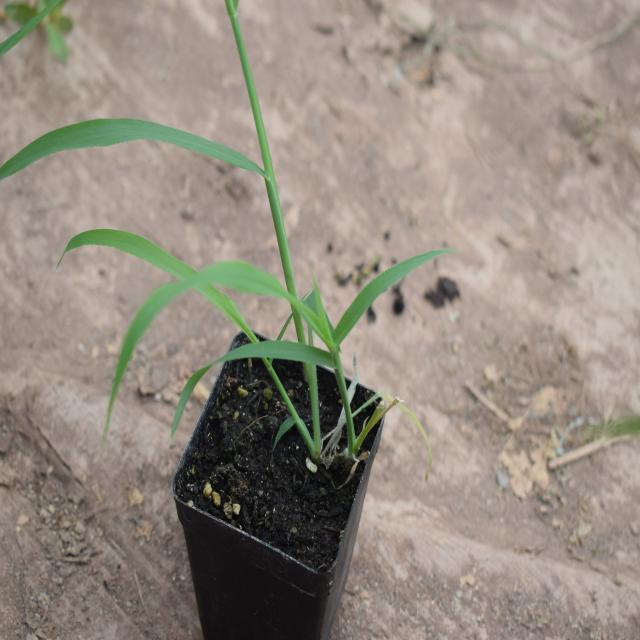crabgrass: (45, 175, 402, 464)
